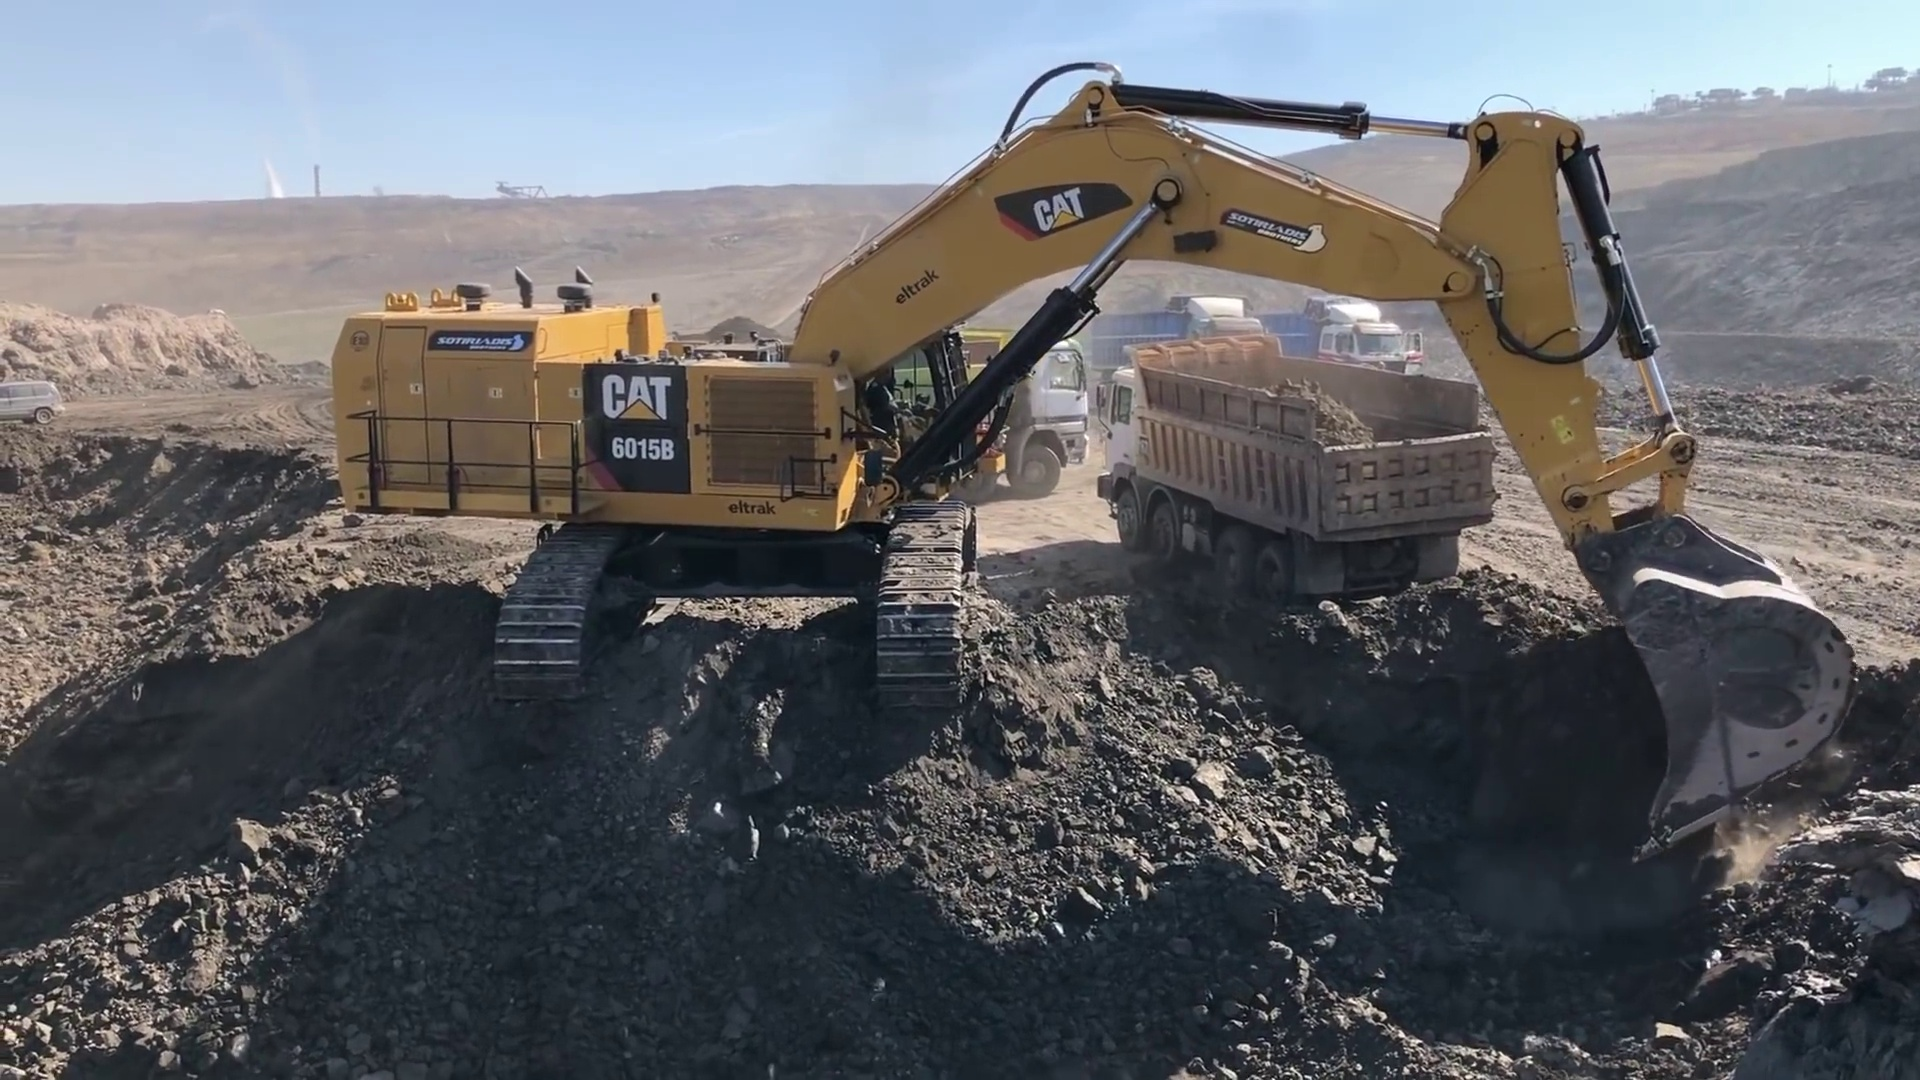car: (3, 380, 69, 419)
excavator: (326, 59, 1865, 870)
truck: (1102, 332, 1497, 620), (887, 334, 1084, 505), (1100, 293, 1274, 389), (1276, 301, 1406, 396)
